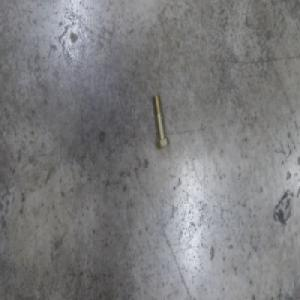Bolt: (151, 93, 169, 151)
